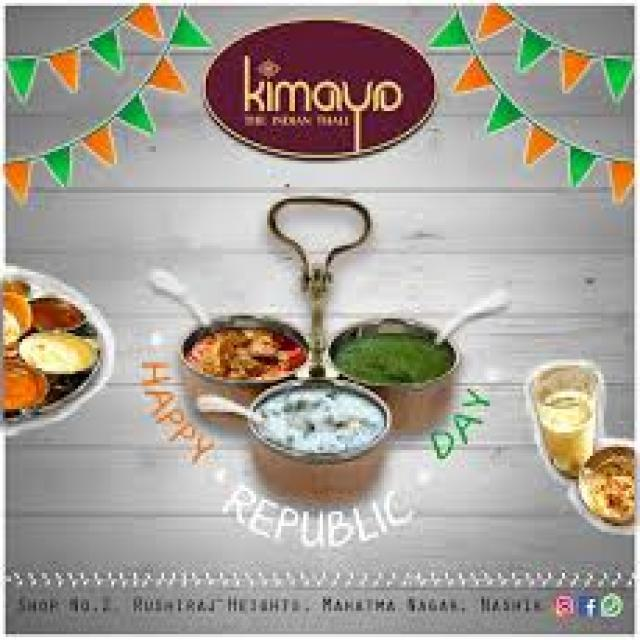rice: (256, 385, 391, 467)
sweet: (31, 296, 83, 333)
veg-fry: (187, 316, 308, 385)
